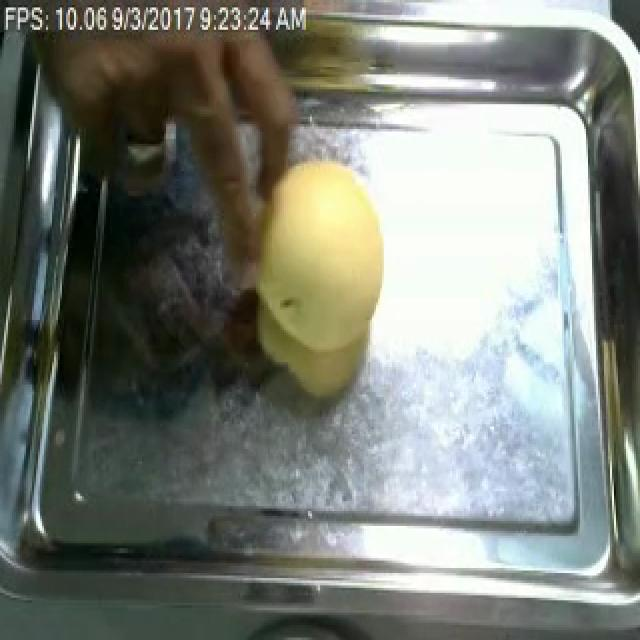Fruit: (236, 144, 394, 407)
